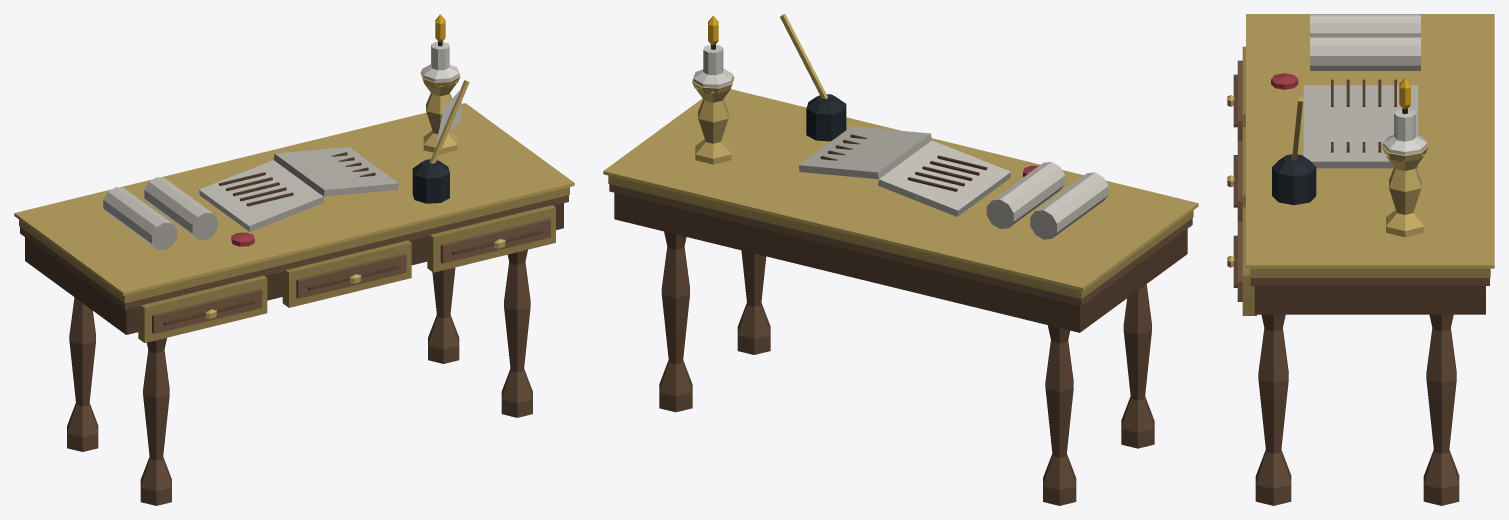
The model's file is palace_desk.glb.
3 renders of one model, left to right at view 1: azimuth 30°, elevation 25°; view 2: azimuth 150°, elevation 25°; view 3: azimuth 270°, elevation 25°, orthographic. The views are drawn at different scales.
Visible parts, largest first — view 1: palace_desk; view 2: palace_desk; view 3: palace_desk.
Boxes of the visible parts, box(x1,y1,x2,y2) form: palace_desk: box(14, 14, 574, 505); palace_desk: box(603, 14, 1198, 505); palace_desk: box(1227, 14, 1494, 505).
Bounding box in the file's own units: 1.88 × 1.42 × 0.8438.
